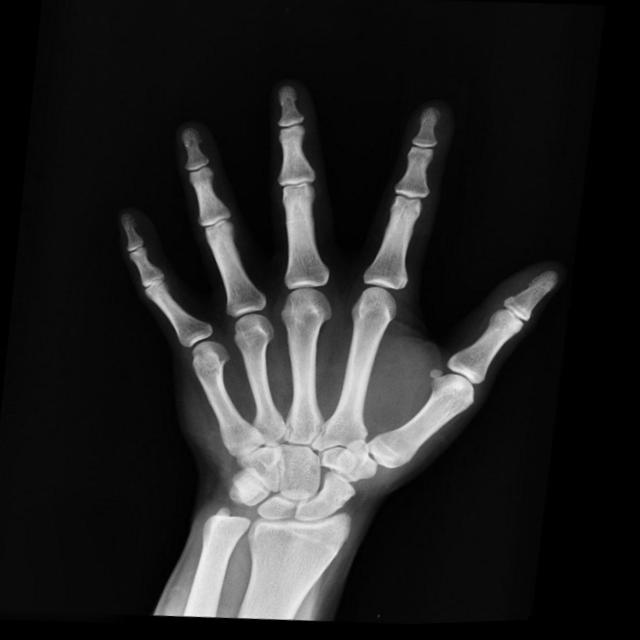fracture: (432, 111, 441, 124)
